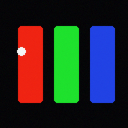0 point: (17, 47, 25, 55)
